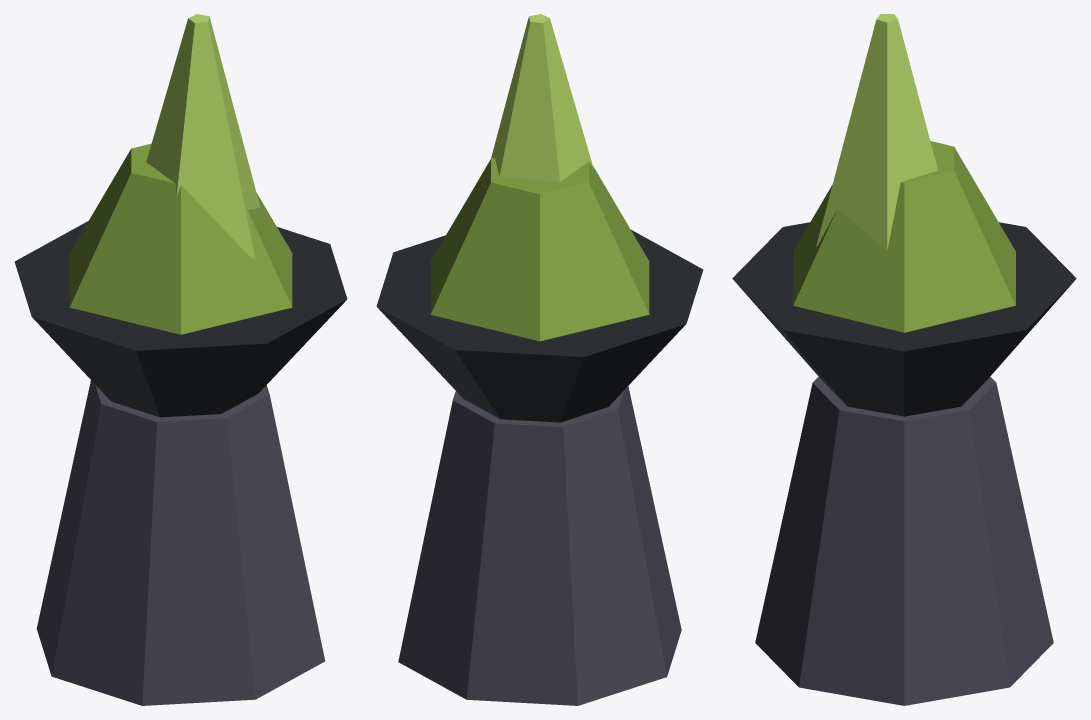
The model's file is brazier.glb.
The picture shows the model from 3 angles, left to right: view 1: azimuth 30°, elevation 25°; view 2: azimuth 150°, elevation 25°; view 3: azimuth 270°, elevation 25°; orthographic projection.
Visible parts, largest first — view 1: Base, Bowl, F0, F1; view 2: Base, F0, Bowl, F1; view 3: Base, F0, Bowl, F1.
Boxes of the visible parts, x1,y1,x2,y2 form: Base: (36, 380, 324, 705); Bowl: (14, 221, 347, 417); F0: (69, 143, 292, 334); F1: (146, 14, 260, 258); Base: (398, 386, 681, 705); F0: (430, 157, 649, 341); Bowl: (376, 230, 703, 422); F1: (491, 14, 593, 181); Base: (755, 376, 1053, 705); F0: (793, 141, 1015, 332); Bowl: (732, 222, 1076, 416); F1: (816, 14, 937, 250).
Size of what is drawn, in the model's own units: 0.6 by 1.21 by 0.6.
